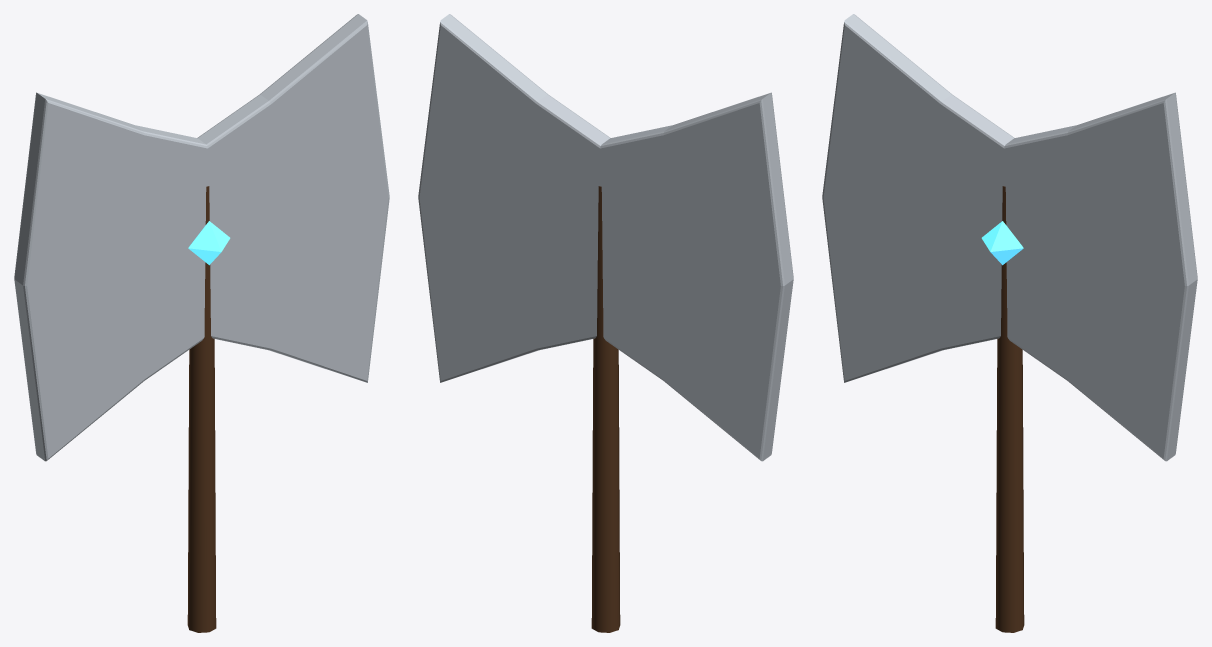
Rendered from axe_f3_fb4e8501.glb.
3 views of the same model, side by side, from view 1: azimuth 30°, elevation 25°; view 2: azimuth 150°, elevation 25°; view 3: azimuth 330°, elevation 25° (orthographic).
Visible parts, largest first — view 1: m5_ow80_, m0_ow80_, m4_gm160_; view 2: m5_ow80_, m0_ow80_; view 3: m5_ow80_, m0_ow80_, m4_gm160_.
Part boxes in pixels (box(x1,y1,x2,y2)): m5_ow80_: box(14, 14, 389, 461); m0_ow80_: box(187, 186, 216, 632); m4_gm160_: box(188, 221, 230, 265); m5_ow80_: box(418, 14, 793, 461); m0_ow80_: box(591, 186, 620, 632); m5_ow80_: box(822, 14, 1197, 461); m0_ow80_: box(995, 186, 1024, 632); m4_gm160_: box(981, 221, 1023, 265).
Size of the model in its own units: 1.72 by 2.57 by 0.22.
